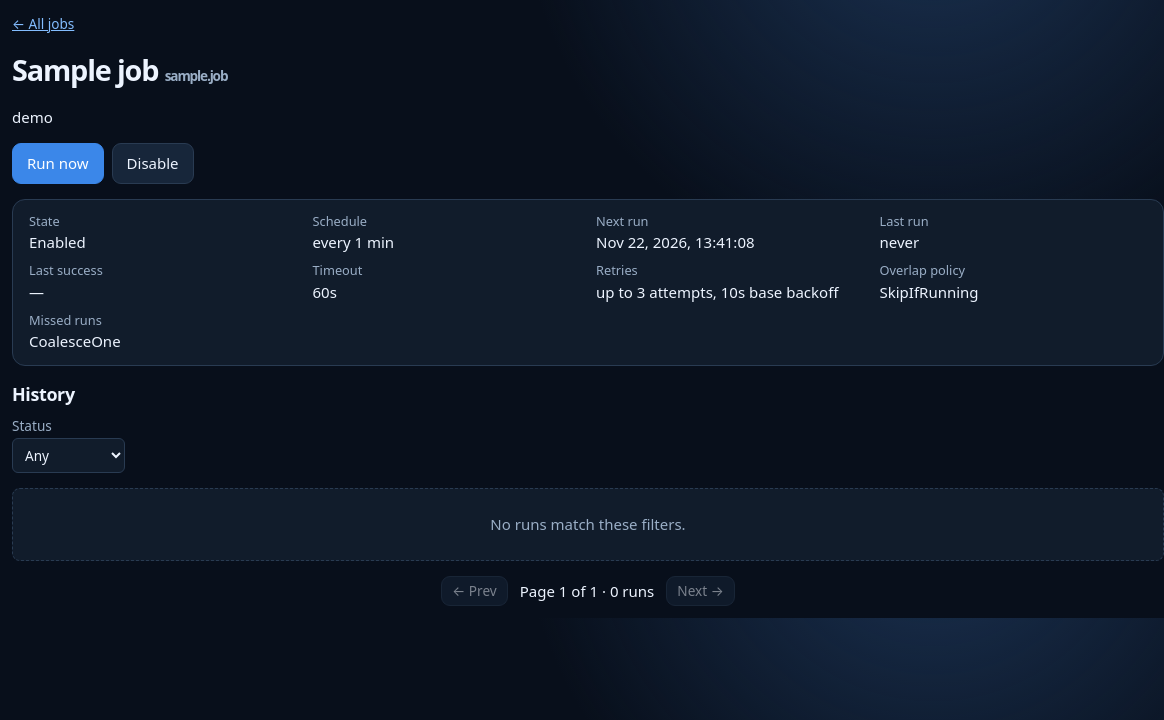
Test: JobDetail role gating › lets operators run now and shows confirmation
Step 1. Click the button "Run now" → (58, 164), box [12, 143, 104, 184]
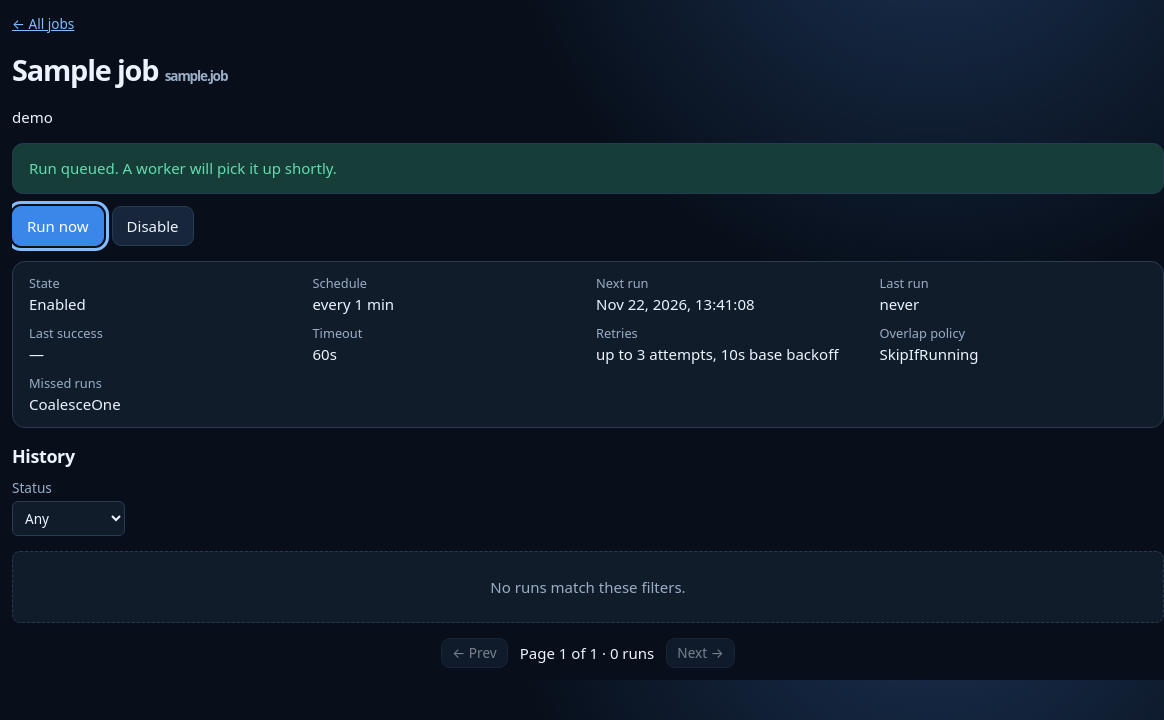
Expected: the text "Run queued. A worker will pick it up shortly." is shown, [12, 143, 1163, 194]
